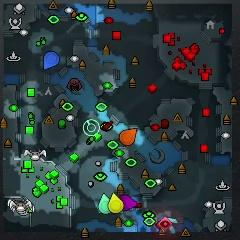p1: (43, 51, 59, 69)
p2: (98, 192, 111, 214)
p3: (118, 194, 137, 212)
p4: (108, 194, 124, 213)
p5: (120, 127, 137, 145)
